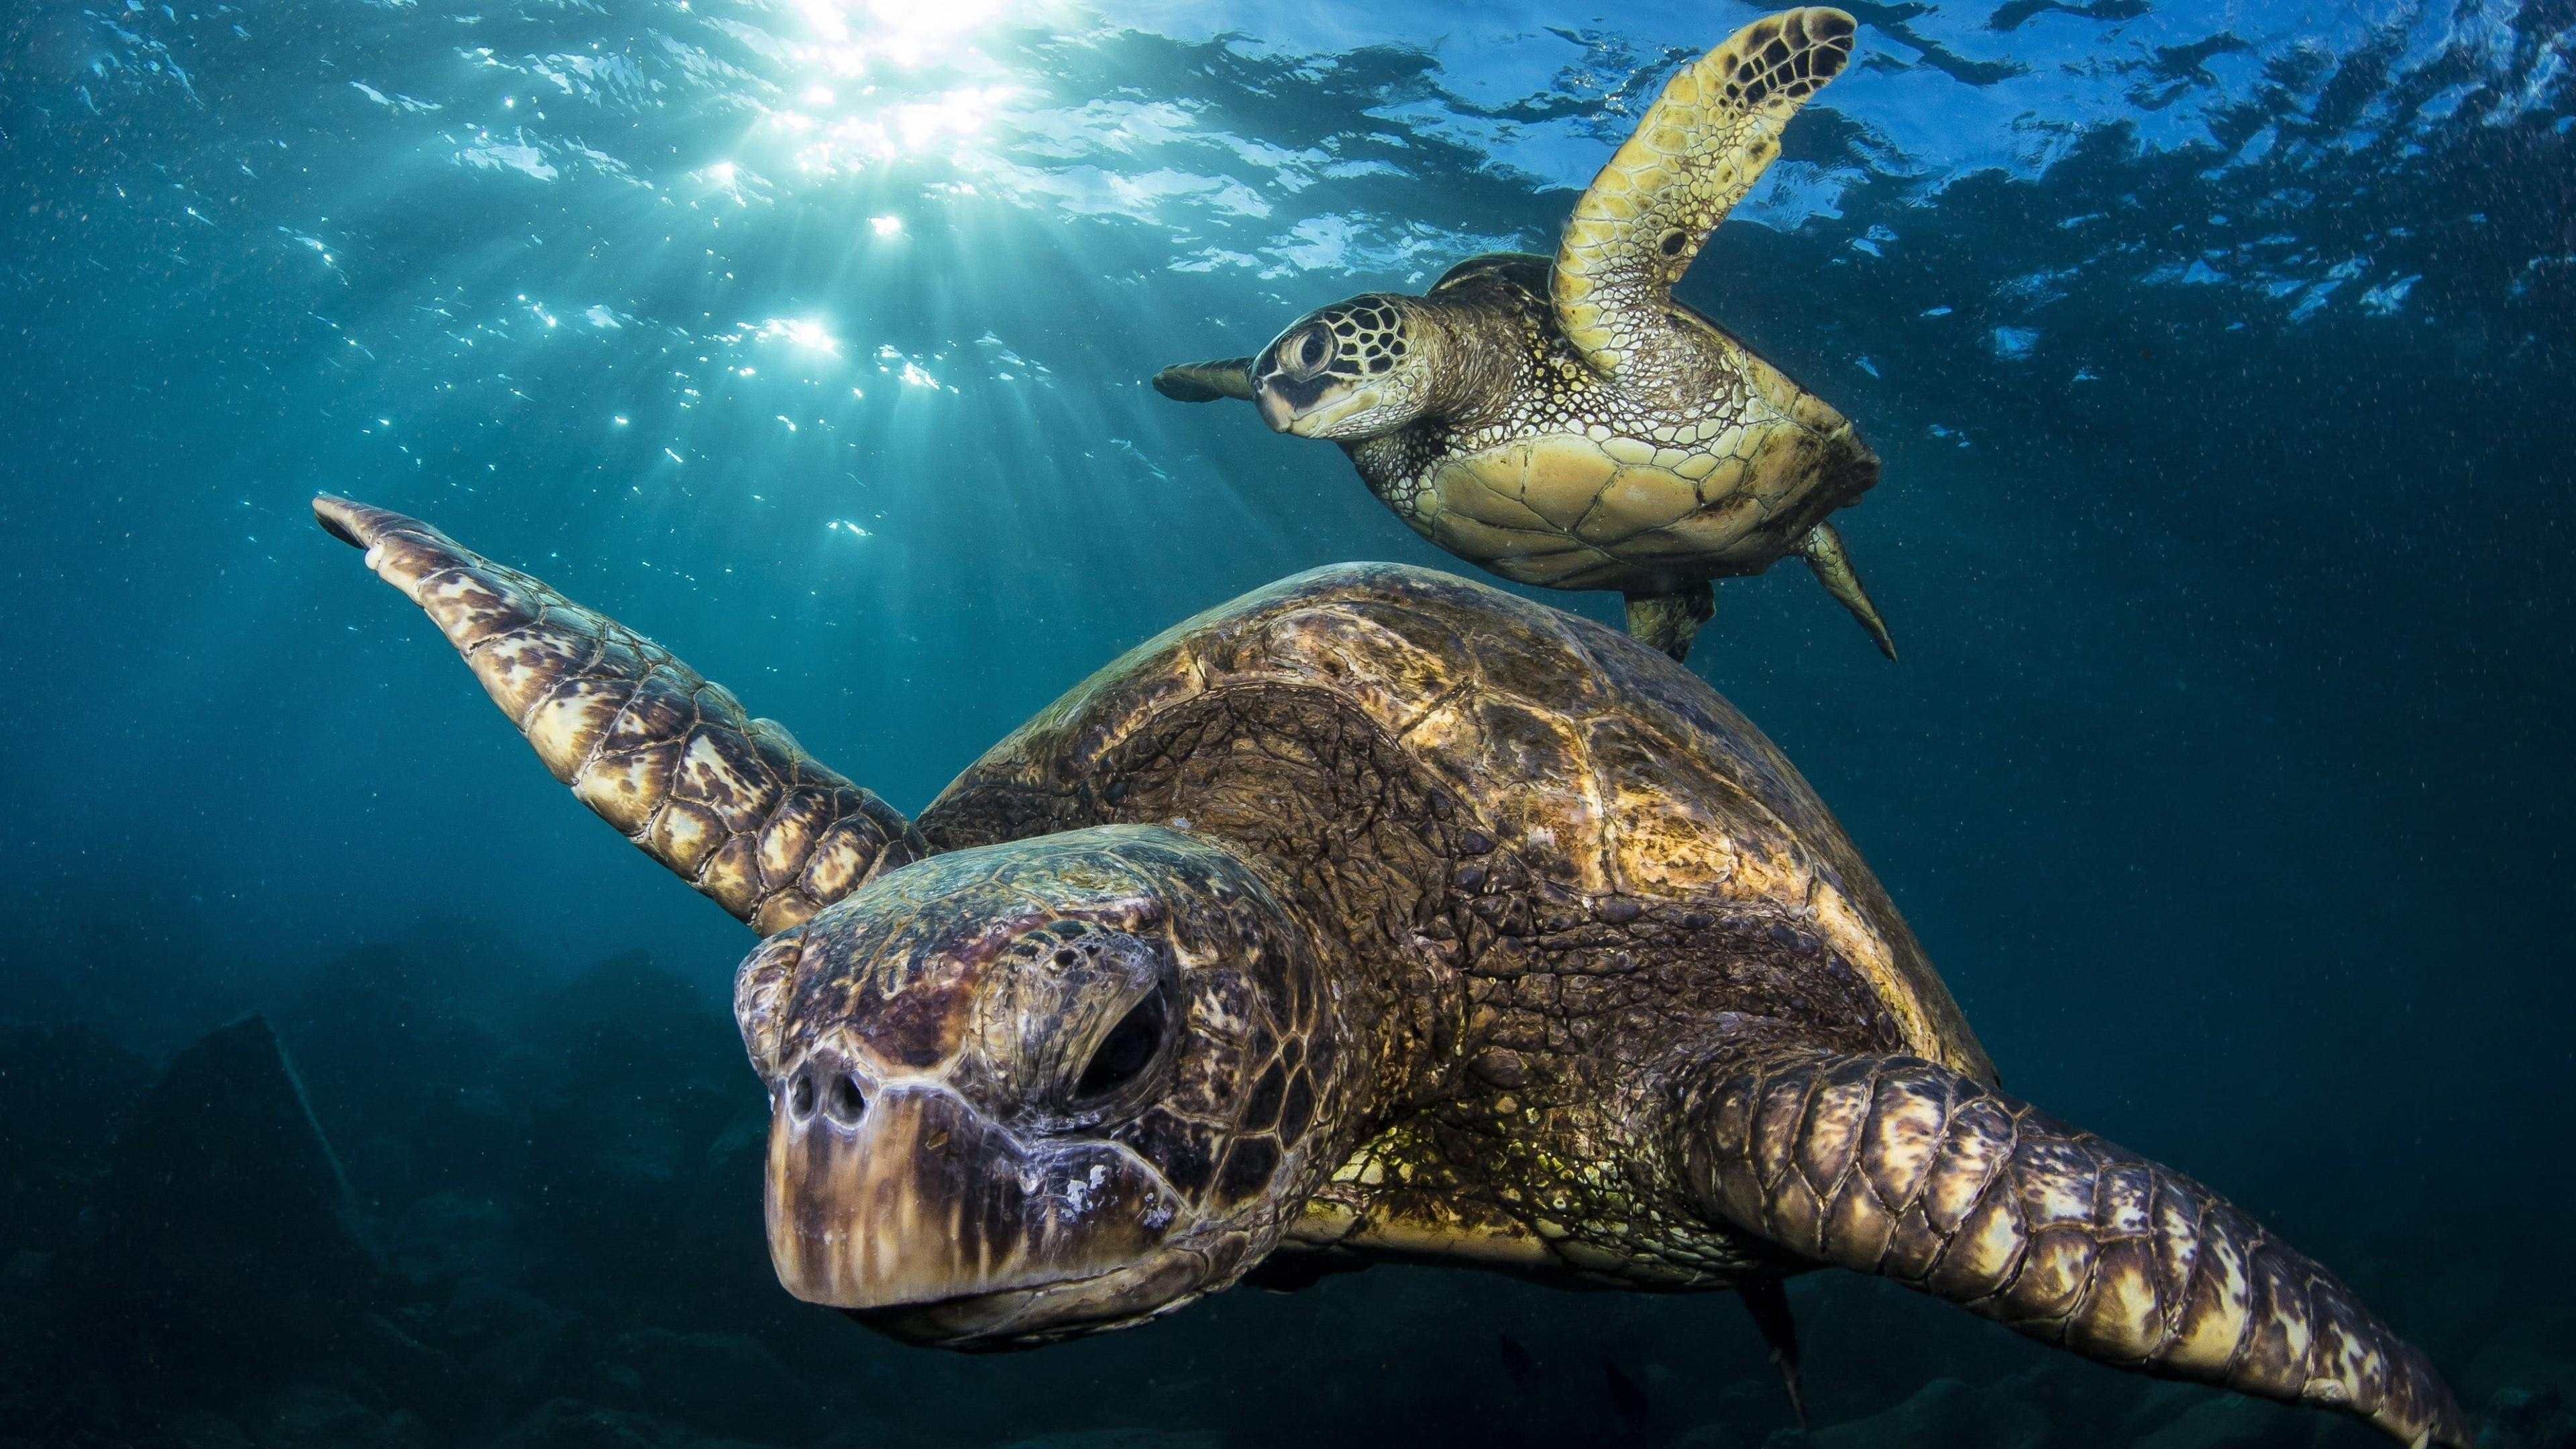turtle: (717, 784, 1361, 1385), (1221, 262, 1449, 458)
